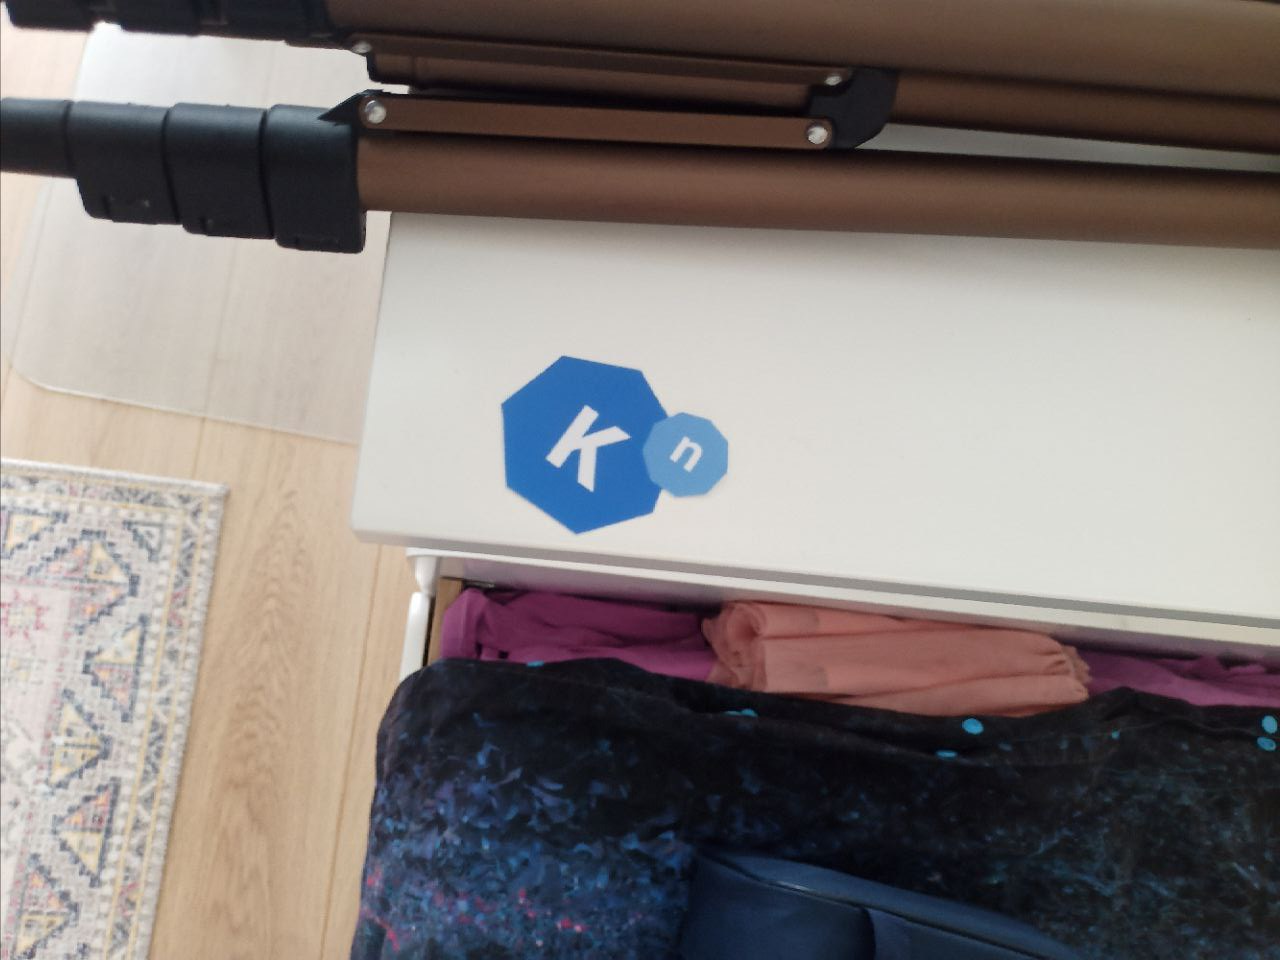knative: (498, 354, 732, 537)
